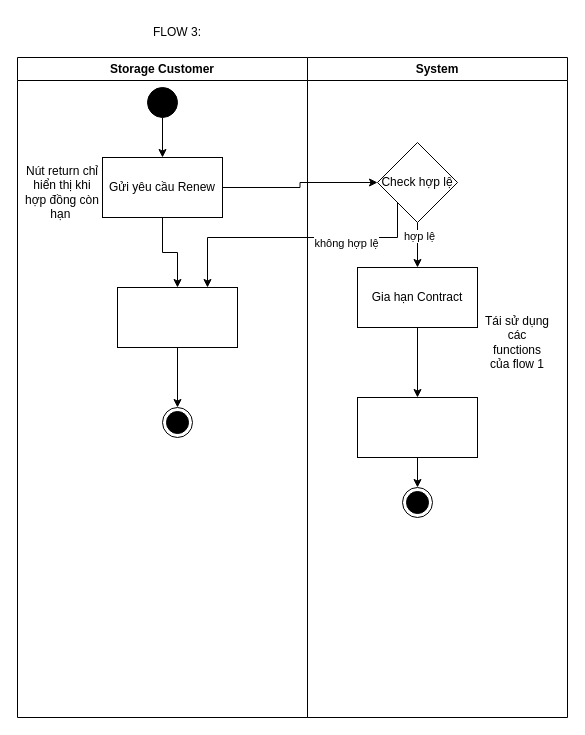
This 585x735 diagram has some shape labels left out. Here are the shapes that lost their labels. From the top down, the centre of each, then its label:
At point (177, 317): "Nhận thông báo (ko thể gia hạn)".
At point (417, 427): "Cập nhật trạng thái ô kho".
